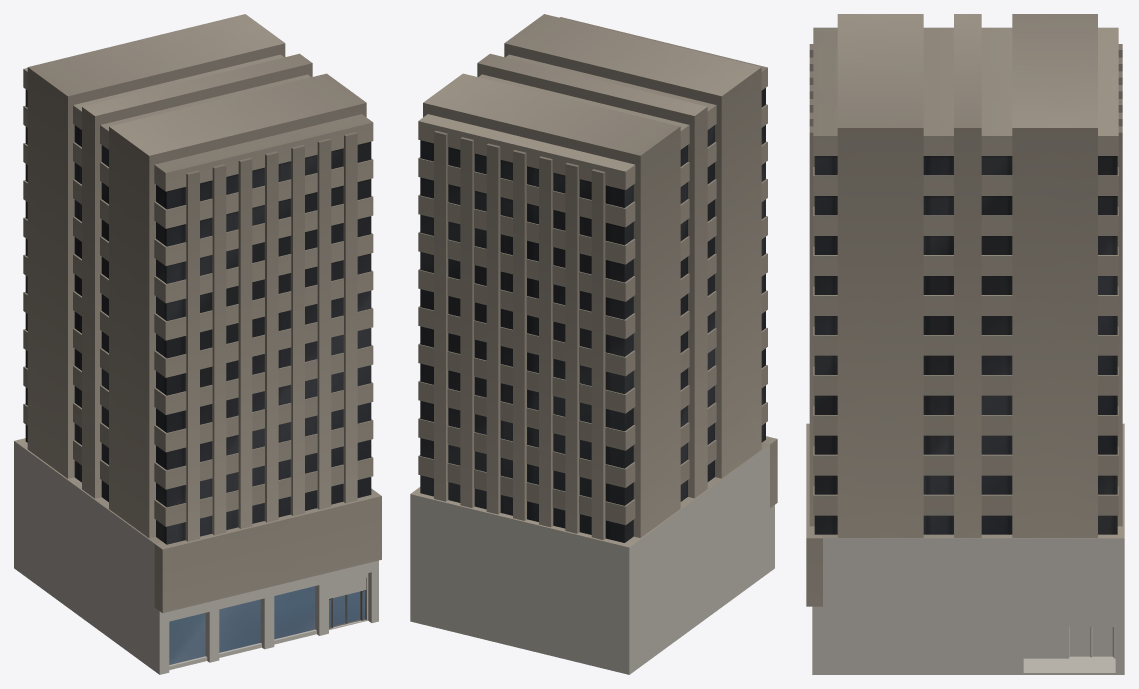
Rendered from Bld_Building_H.fbx.
3 views of the same model, side by side, from view 1: azimuth 30°, elevation 25°; view 2: azimuth 150°, elevation 25°; view 3: azimuth 270°, elevation 25° (orthographic). The views are drawn at different scales.
Visible parts, largest first — view 1: Bld_Building_H; view 2: Bld_Building_H; view 3: Bld_Building_H.
Part boxes in pixels (x1,y1,x2,y2): Bld_Building_H: [14, 14, 381, 674]; Bld_Building_H: [410, 14, 777, 674]; Bld_Building_H: [806, 14, 1124, 674].
Bounding box in the file's own units: 1800 × 4000 × 2110.
